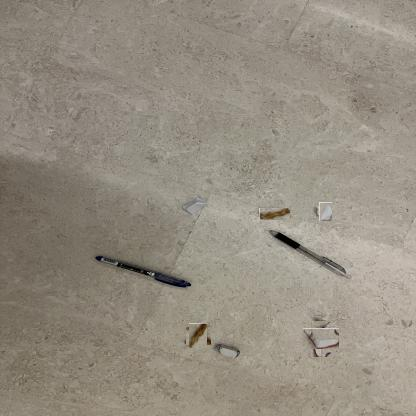dirty: (307, 325, 336, 353), (181, 197, 207, 215), (188, 325, 209, 347), (259, 209, 290, 220), (318, 204, 334, 219)
